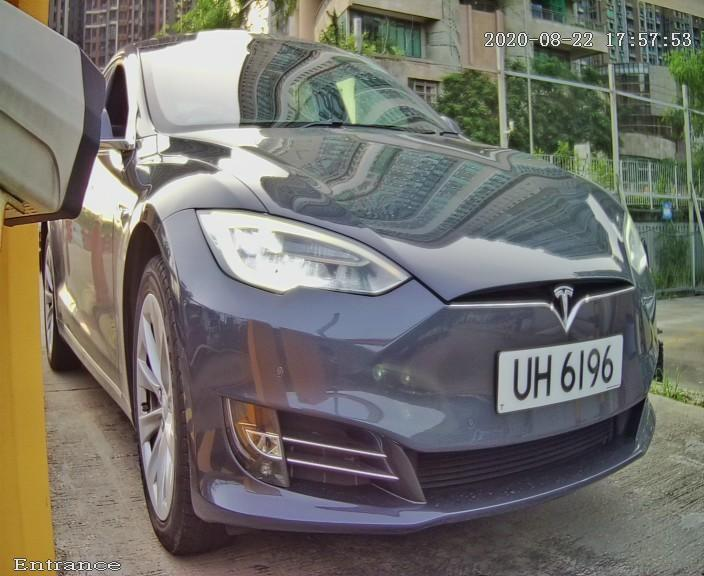License Plate: (474, 313, 647, 429)
